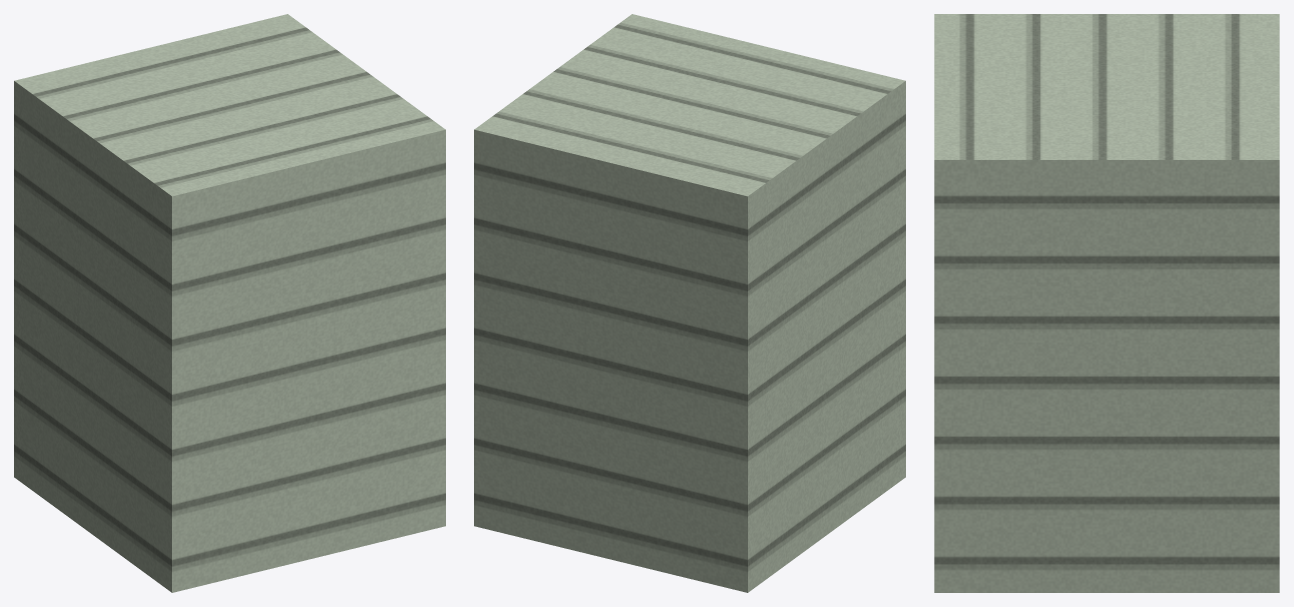
Rendered from washer.glb.
The picture shows the model from 3 angles, left to right: view 1: azimuth 30°, elevation 25°; view 2: azimuth 150°, elevation 25°; view 3: azimuth 270°, elevation 25°; orthographic projection. The views are drawn at different scales.
Visible parts, largest first — view 1: washer-col; view 2: washer-col; view 3: washer-col.
Boxes of the visible parts, left/top/right/bottom form: washer-col: left=14, top=14, right=445, bottom=592; washer-col: left=474, top=14, right=905, bottom=592; washer-col: left=934, top=14, right=1279, bottom=592.
Bounding box in the file's own units: 0.65 × 0.9 × 0.65.
1 material, 1 textured.
